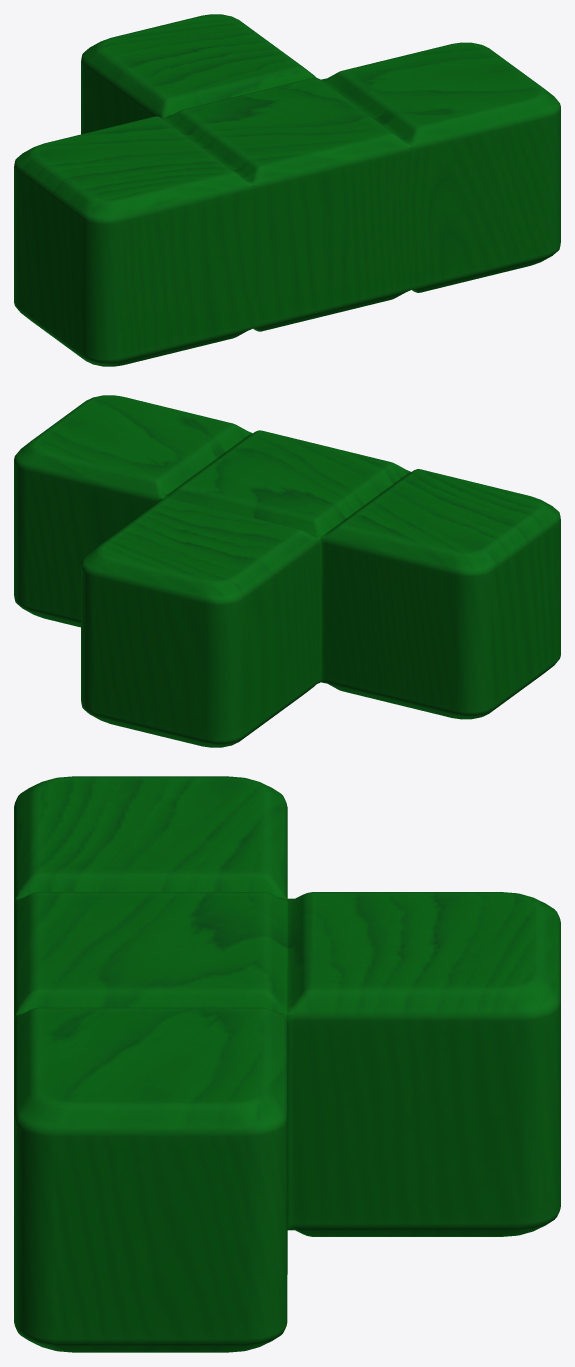
File: Block_05.fbx
3 renders of one model, top to bottom at view 1: azimuth 30°, elevation 25°; view 2: azimuth 150°, elevation 25°; view 3: azimuth 270°, elevation 25°, orthographic. The views are drawn at different scales.
Parts seen in each view (by area): view 1: Block_05; view 2: Block_05; view 3: Block_05.
Part boxes in pixels (box(x1,y1,x2,y2)): Block_05: box(14, 14, 560, 366); Block_05: box(14, 395, 560, 747); Block_05: box(14, 776, 560, 1352).
Bounding box in the file's own units: 3 × 1 × 2.
1 material, 1 textured.
